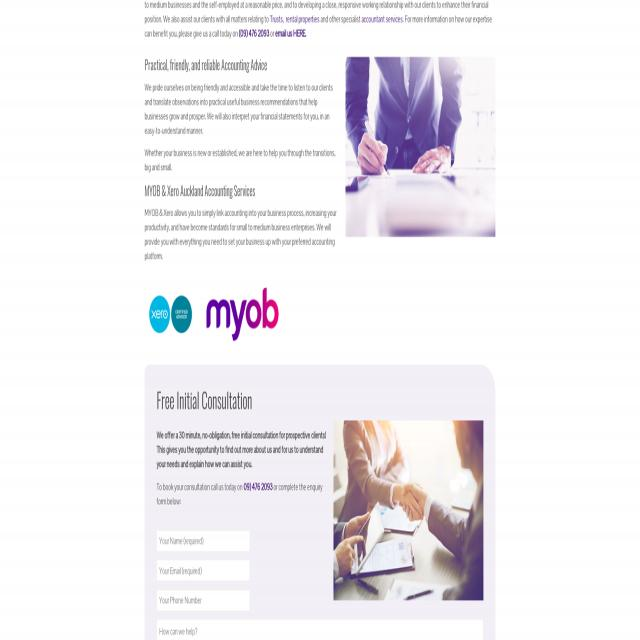button: (334, 420, 484, 603), (346, 57, 496, 237), (198, 271, 288, 357), (144, 287, 197, 341)
field: (157, 618, 483, 640), (156, 530, 250, 552), (156, 560, 250, 581), (156, 590, 250, 611)
